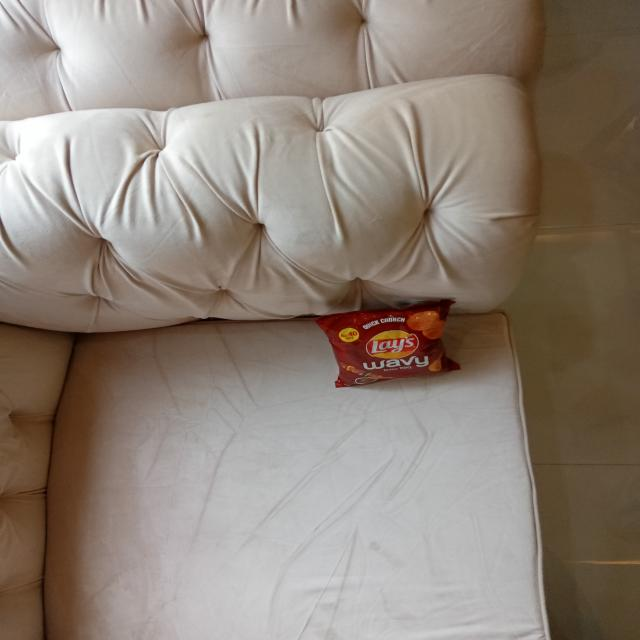Plastic: (310, 294, 468, 391)
